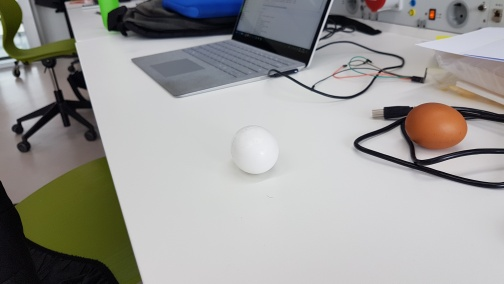egg: (402, 101, 470, 151), (227, 123, 281, 176)
